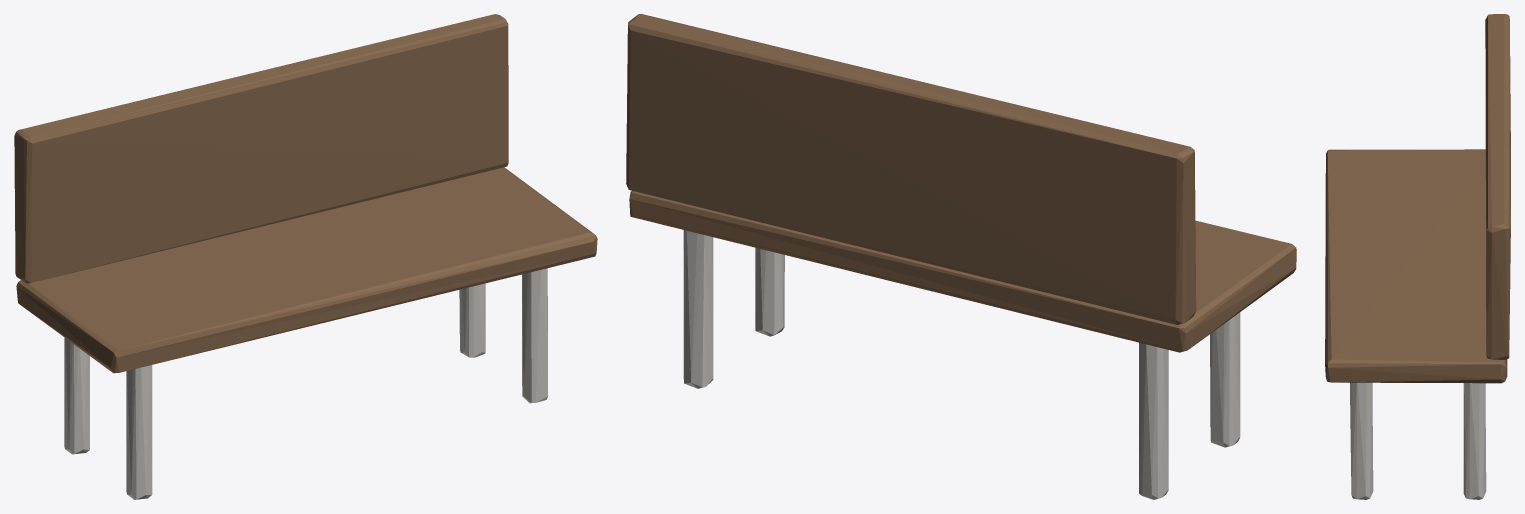
The model's file is SM_Kit_Garden_Bench_LOD1.glb.
The picture shows the model from 3 angles, left to right: view 1: azimuth 30°, elevation 25°; view 2: azimuth 150°, elevation 25°; view 3: azimuth 270°, elevation 25°; orthographic projection. The views are drawn at different scales.
Parts seen in each view (by area): view 1: SM_Kit_Garden_Bench_LOD1; view 2: SM_Kit_Garden_Bench_LOD1; view 3: SM_Kit_Garden_Bench_LOD1.
Part boxes in pixels (<box>): SM_Kit_Garden_Bench_LOD1: <box>14,14,597,499</box>; SM_Kit_Garden_Bench_LOD1: <box>626,14,1296,499</box>; SM_Kit_Garden_Bench_LOD1: <box>1325,14,1510,499</box>.
Bounding box in the file's own units: 1.4 × 0.8824 × 0.51.
